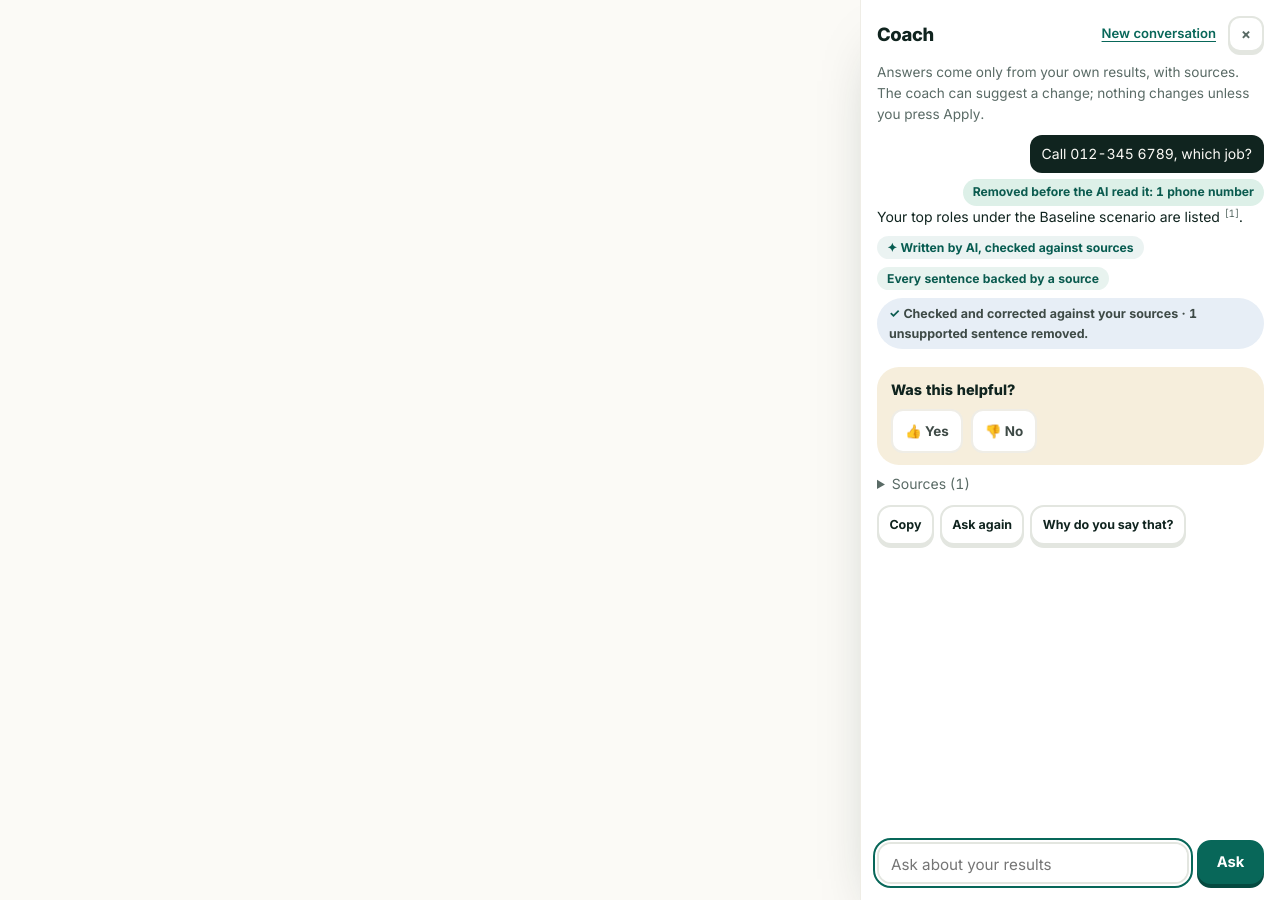
Test case: Coach › says to slow down, not that the coach is offline, after a 429
Type "Which job?" into the text box labelled "Ask about your results" at {"x": 1033, "y": 863}, box [877,842,1189,884]
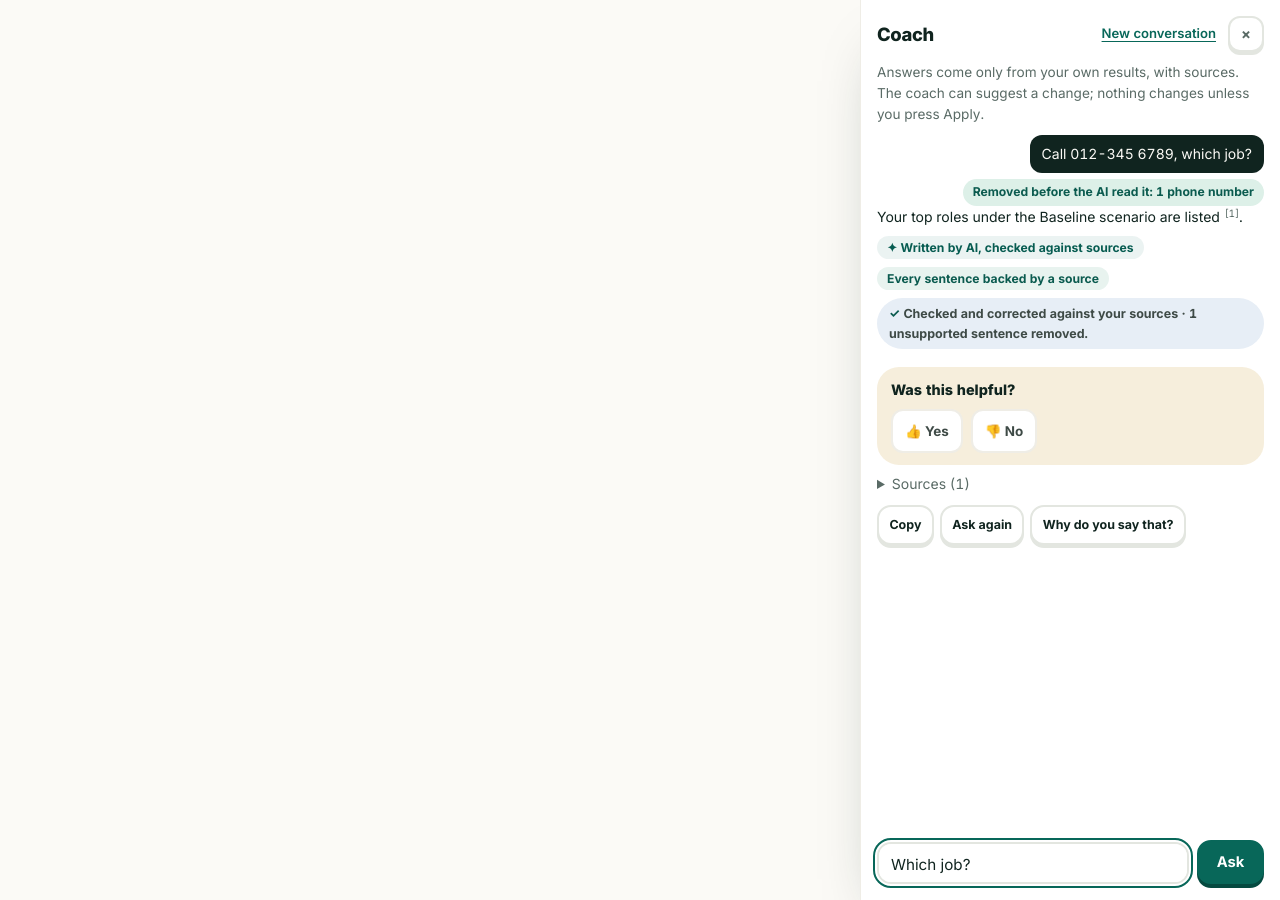
Click the button "Ask" at {"x": 1231, "y": 862}, box [1197,840,1264,884]
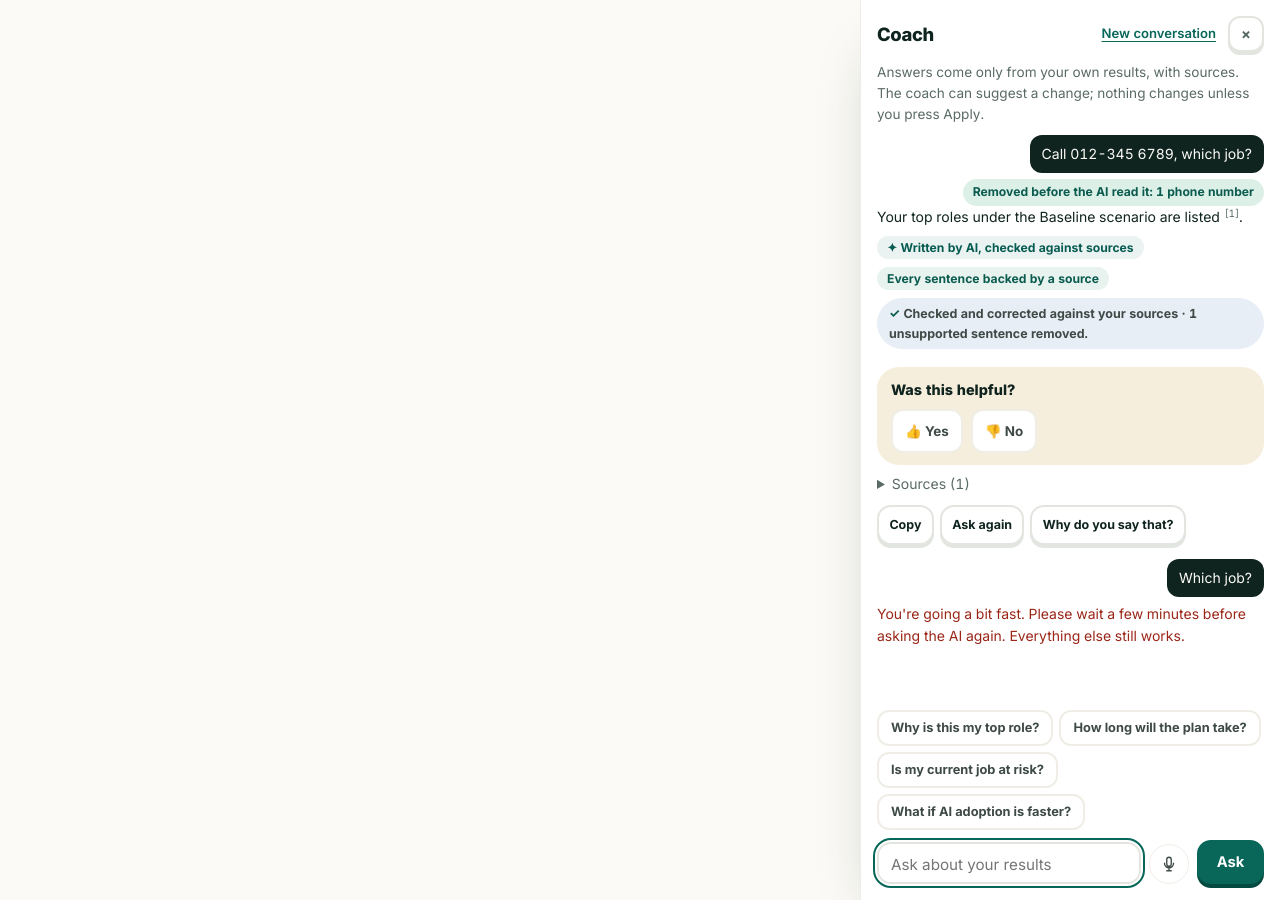
Check: the text "going a bit fast" is shown, box [877,605,1246,644]
